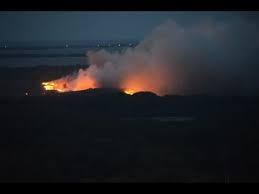fire: (39, 73, 97, 92), (122, 83, 154, 95)
